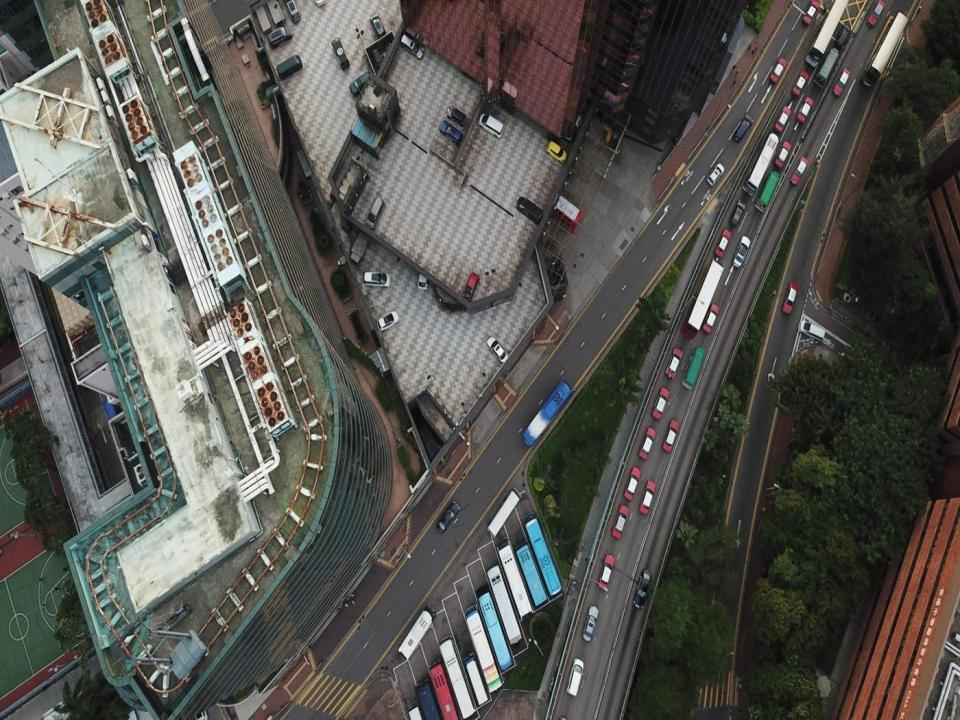bus: (860, 11, 908, 88), (681, 259, 725, 339), (464, 604, 502, 693), (522, 380, 572, 447), (437, 634, 476, 719), (494, 536, 533, 620), (522, 512, 561, 596), (475, 584, 512, 672), (485, 560, 522, 645), (804, 0, 850, 68), (527, 179, 582, 234), (742, 132, 779, 195), (398, 602, 437, 661), (514, 539, 546, 607), (427, 658, 459, 719), (487, 487, 522, 538), (463, 651, 489, 706), (681, 346, 706, 390), (415, 677, 441, 719), (755, 171, 780, 213), (812, 48, 838, 88), (407, 701, 422, 719)
car: (436, 500, 460, 534), (633, 568, 652, 608), (638, 479, 656, 515), (732, 236, 752, 268), (623, 466, 641, 501), (638, 426, 656, 461), (486, 335, 508, 363), (652, 386, 670, 420), (582, 605, 599, 640), (662, 420, 679, 454), (664, 347, 682, 379), (598, 554, 614, 589), (612, 504, 628, 539), (714, 229, 732, 260), (795, 96, 814, 124), (774, 140, 792, 169), (790, 156, 808, 185), (832, 67, 850, 96), (782, 282, 798, 314), (791, 69, 810, 95), (376, 310, 398, 332), (703, 304, 719, 334), (191, 691, 208, 719), (774, 105, 791, 133), (866, 0, 884, 26), (770, 57, 788, 83), (546, 140, 567, 162), (446, 105, 467, 126), (553, 120, 575, 140), (565, 90, 586, 110), (803, 0, 819, 26), (563, 106, 582, 127), (417, 261, 429, 289)
van: (516, 196, 543, 224), (565, 658, 584, 696), (277, 54, 303, 79), (478, 113, 504, 137), (349, 70, 372, 97), (331, 38, 349, 70), (400, 34, 424, 58), (366, 196, 384, 228), (797, 321, 825, 341), (268, 25, 292, 48), (439, 121, 463, 144), (734, 115, 754, 140), (462, 272, 479, 300), (730, 199, 746, 227), (364, 271, 390, 288), (282, 0, 300, 24), (370, 13, 386, 38), (835, 23, 850, 48), (707, 164, 724, 186)
